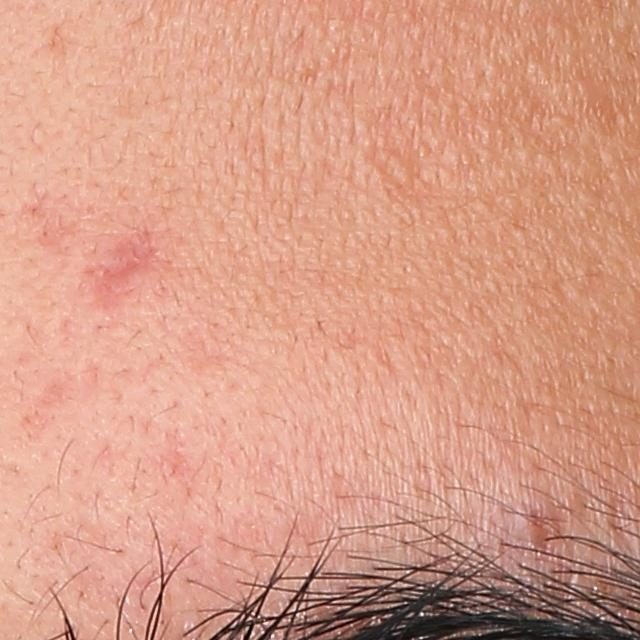atrophic_scar: (82, 223, 160, 312)
